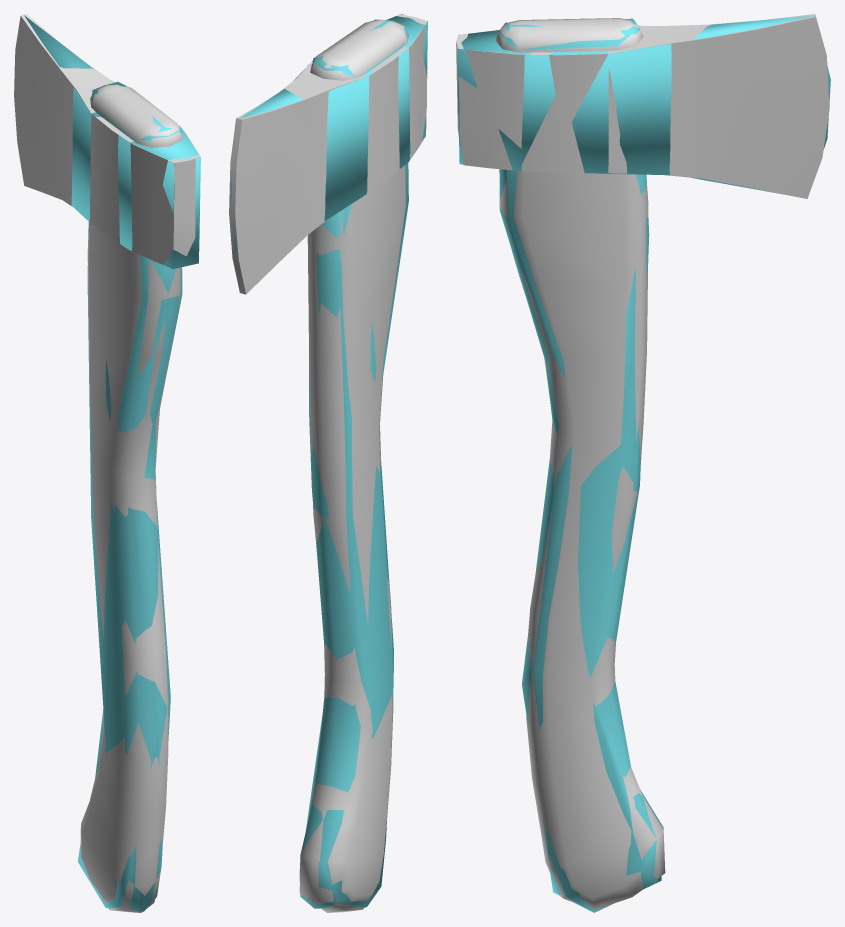
File: Axe.fbx
The picture shows the model from 3 angles, left to right: view 1: azimuth 30°, elevation 25°; view 2: azimuth 150°, elevation 25°; view 3: azimuth 270°, elevation 25°; orthographic projection. The views are drawn at different scales.
Parts seen in each view (by area): view 1: axe_LOD0, UTM_axe; view 2: axe_LOD0, UTM_axe; view 3: axe_LOD0, UTM_axe.
Boxes of the visible parts, x1,y1,x2,y2 form: axe_LOD0: (14,14,200,912); UTM_axe: (24,15,200,911); axe_LOD0: (229,14,427,912); UTM_axe: (230,14,427,908); axe_LOD0: (456,14,829,909); UTM_axe: (457,15,830,912).
Size of the model in its own units: 3.61 by 50.31 by 19.14.
